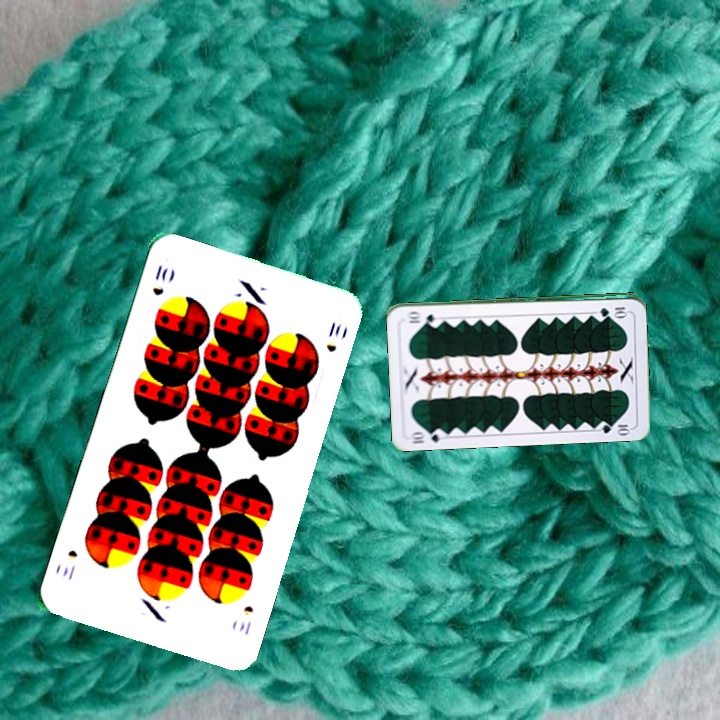G10: (408, 425, 447, 446), (595, 303, 630, 317)
S10: (148, 260, 171, 299), (235, 601, 256, 638)
